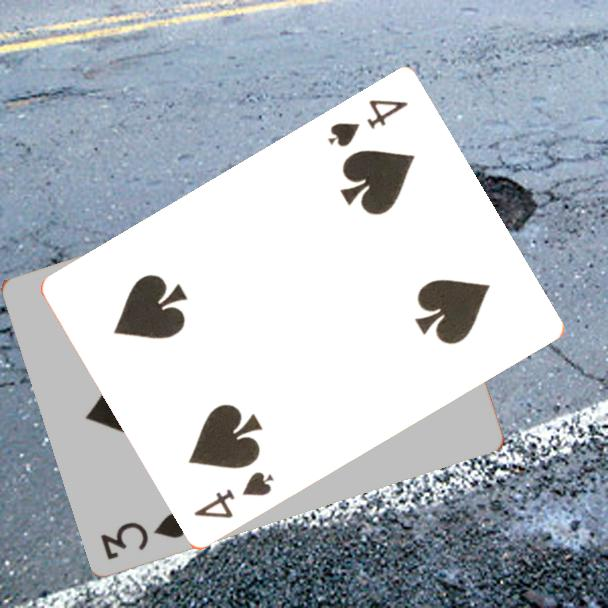s03: (97, 508, 192, 562)
s04: (190, 468, 277, 523), (324, 96, 411, 151)
